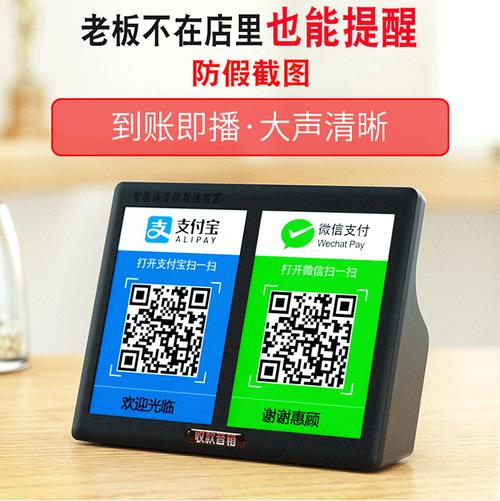QRCode: (256, 285, 358, 390), (120, 279, 218, 377)
